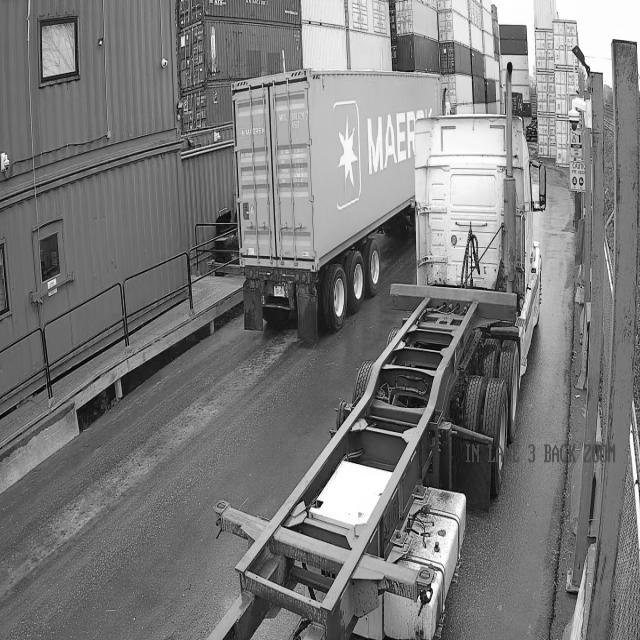truck_with_container: (233, 68, 442, 340)
truck_without_container: (212, 112, 546, 639)
